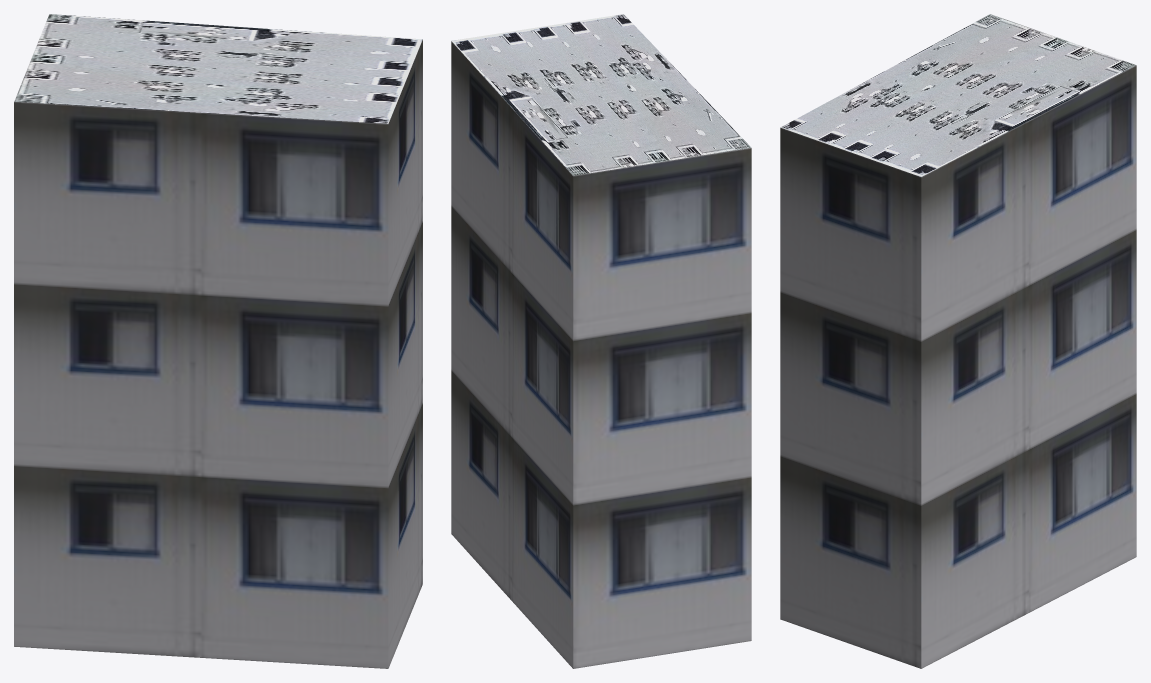
File: ResTex__3404.fbx
3 views of the same model, side by side, from view 1: azimuth 30°, elevation 25°; view 2: azimuth 150°, elevation 25°; view 3: azimuth 270°, elevation 25° (orthographic). The views are drawn at different scales.
Visible parts, largest first — view 1: CityEngineMaterial_9_m, CityEngineMaterial_8_m; view 2: CityEngineMaterial_9_m, CityEngineMaterial_8_m; view 3: CityEngineMaterial_9_m, CityEngineMaterial_8_m.
Boxes of the visible parts, x1,y1,x2,y2 form: CityEngineMaterial_9_m: [14, 39, 422, 668]; CityEngineMaterial_8_m: [14, 14, 422, 123]; CityEngineMaterial_9_m: [451, 41, 751, 668]; CityEngineMaterial_8_m: [451, 14, 751, 175]; CityEngineMaterial_9_m: [780, 65, 1136, 668]; CityEngineMaterial_8_m: [781, 14, 1135, 176].
Size of the model in its own units: 6.4 by 9 by 5.91.
2 materials, 2 textured.
